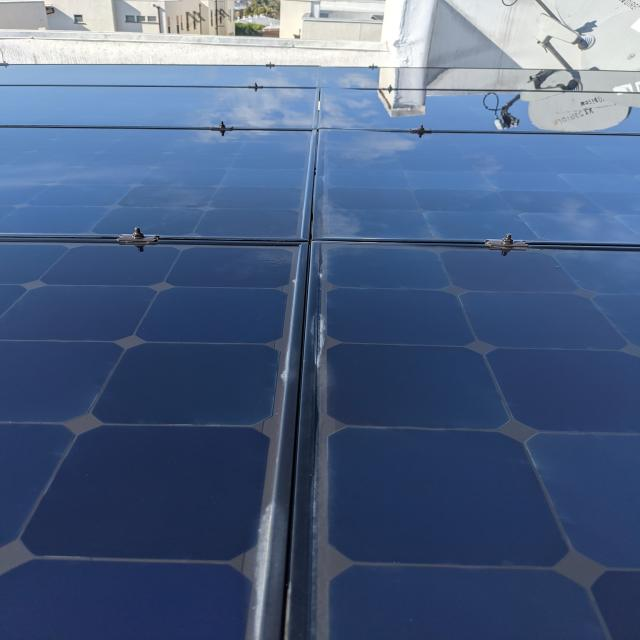clean-solar-panel: (2, 65, 640, 640)
